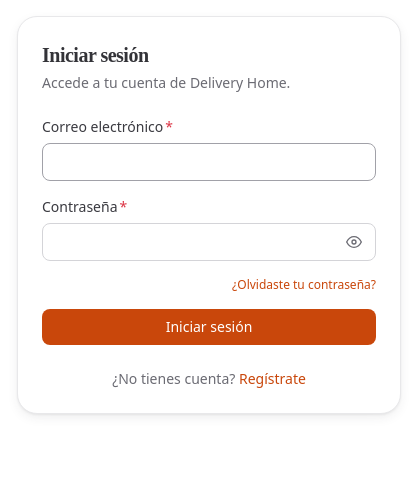
Test: LoginPage › muestra el mensaje de error del backend cuando las credenciales son inválidas
This screenshot has width=419, height=503.
Type "ana@example.com" into the field labelled "Correo electrónico*".
click(209, 162); type("ana@example.com")  # box left=42, top=143, right=376, bottom=181
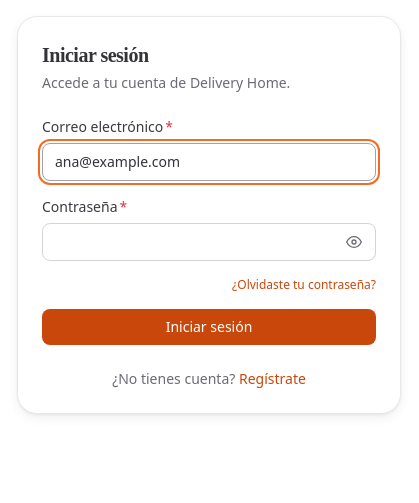
Type "incorrecta" into the password field labelled "Contraseña*".
click(209, 242); type("incorrecta")  # box left=42, top=223, right=376, bottom=261
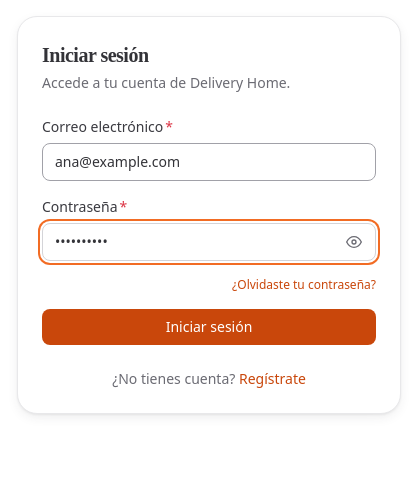
Click the button "Iniciar sesión".
click(209, 327)  # box left=42, top=309, right=376, bottom=345
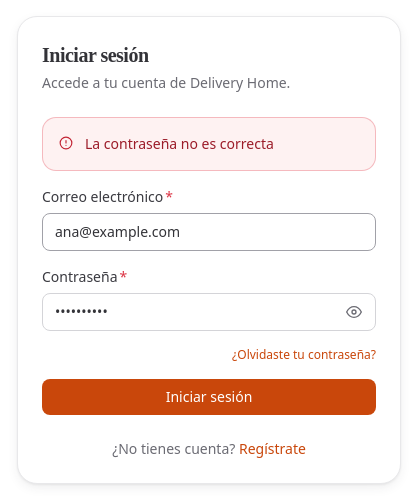
Result: the text "La contraseña no es correcta" is shown at left=85, top=134, right=274, bottom=153
